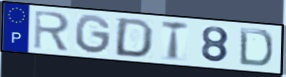8: (201, 25, 231, 64)
D: (112, 17, 156, 59), (237, 26, 275, 69)
G: (74, 13, 113, 56)
R: (32, 9, 72, 53)
T: (160, 20, 190, 63)
